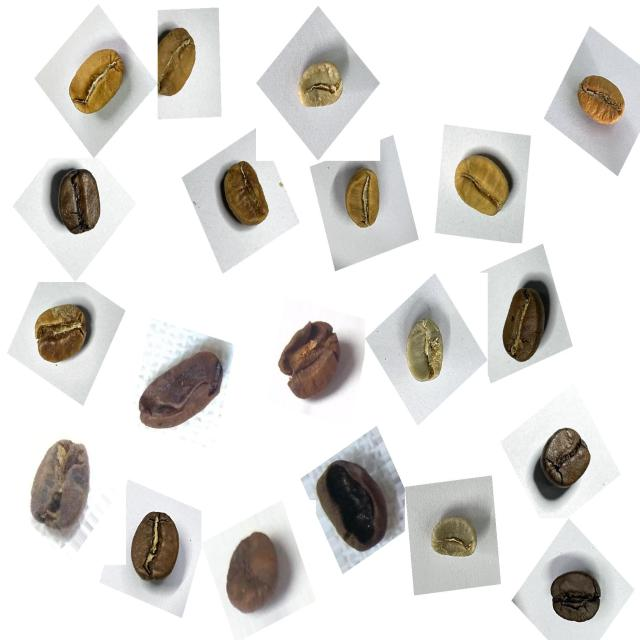bad: (133, 330, 230, 442), (308, 447, 400, 561), (19, 428, 101, 544), (214, 518, 296, 623), (274, 308, 355, 411)
dark: (530, 417, 604, 509), (40, 162, 115, 252), (540, 553, 610, 636)
green: (442, 138, 522, 235), (390, 307, 456, 395), (422, 499, 484, 575), (292, 49, 353, 121)
light: (54, 36, 134, 130), (24, 292, 102, 379), (208, 152, 280, 242), (149, 19, 210, 110), (568, 60, 637, 138), (333, 160, 394, 242)
medium: (490, 274, 565, 374), (117, 502, 195, 596)
